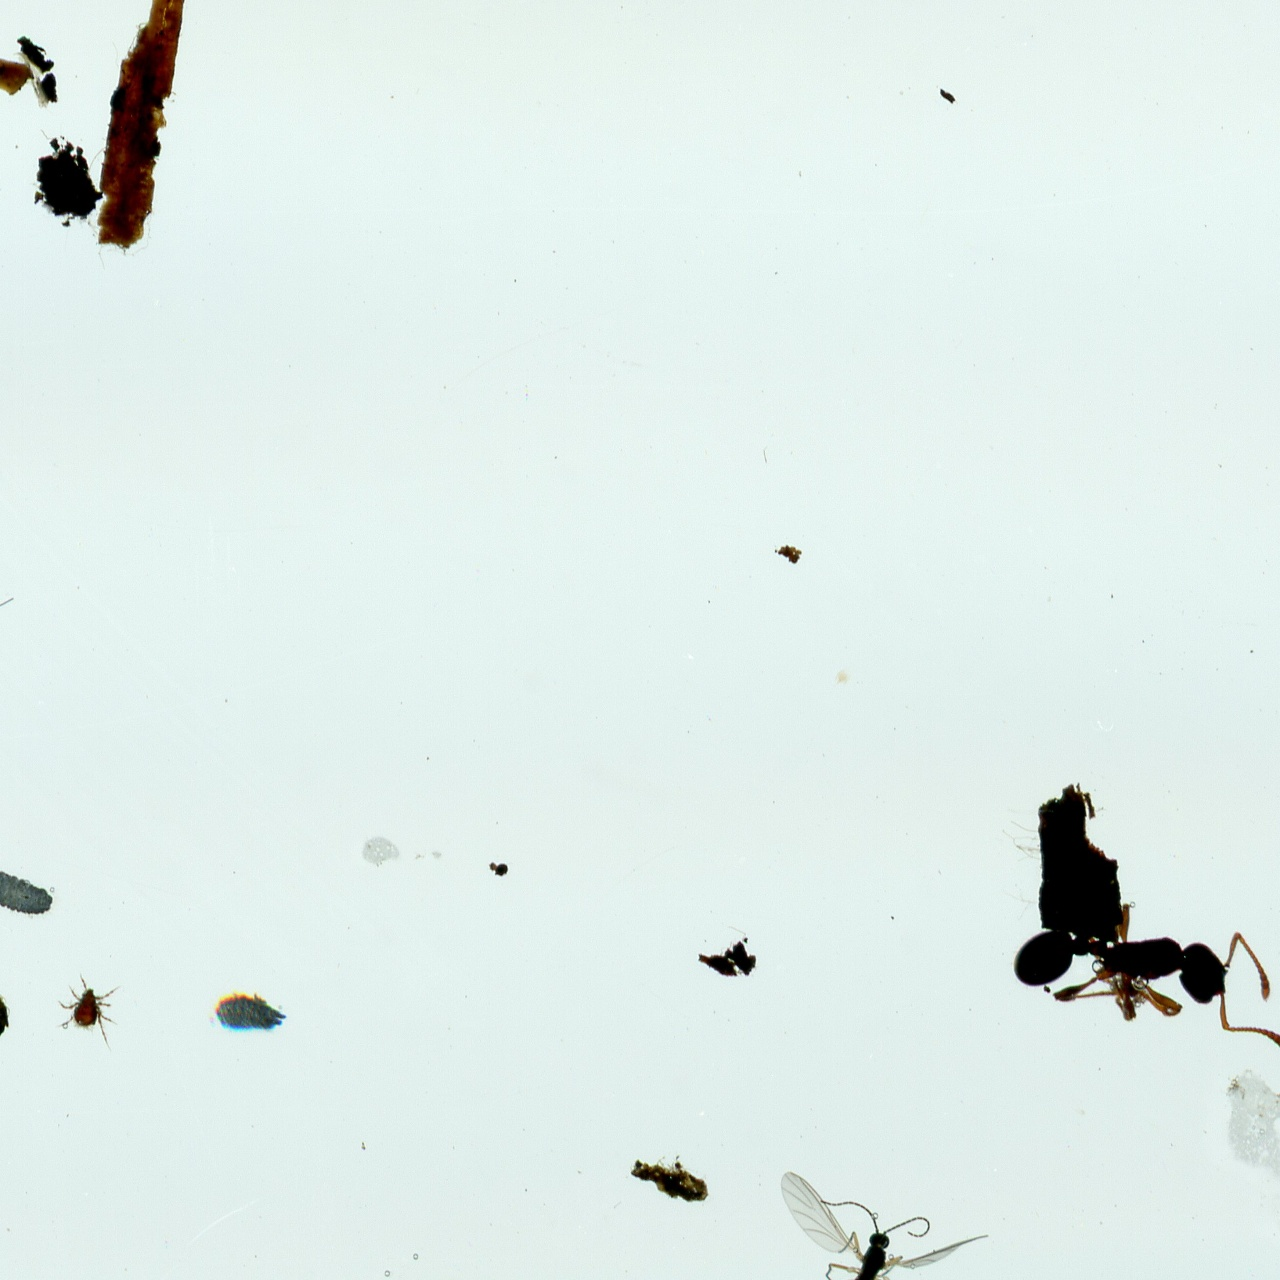arthropod: (1006, 896, 1280, 1058), (777, 1166, 994, 1280), (0, 851, 66, 938), (53, 972, 123, 1043), (212, 989, 291, 1037)
